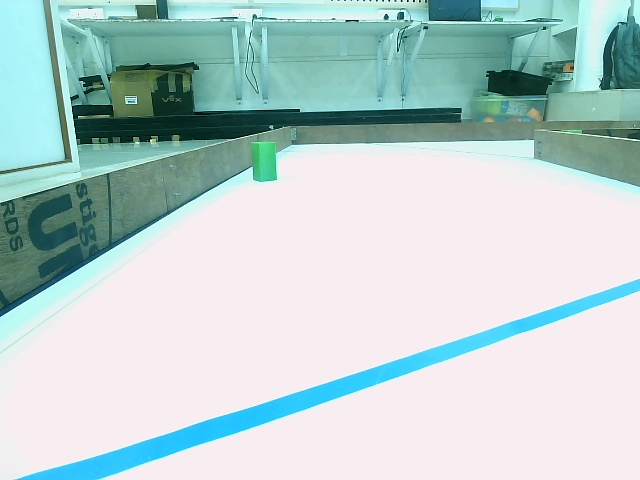green: (253, 142, 277, 180)
